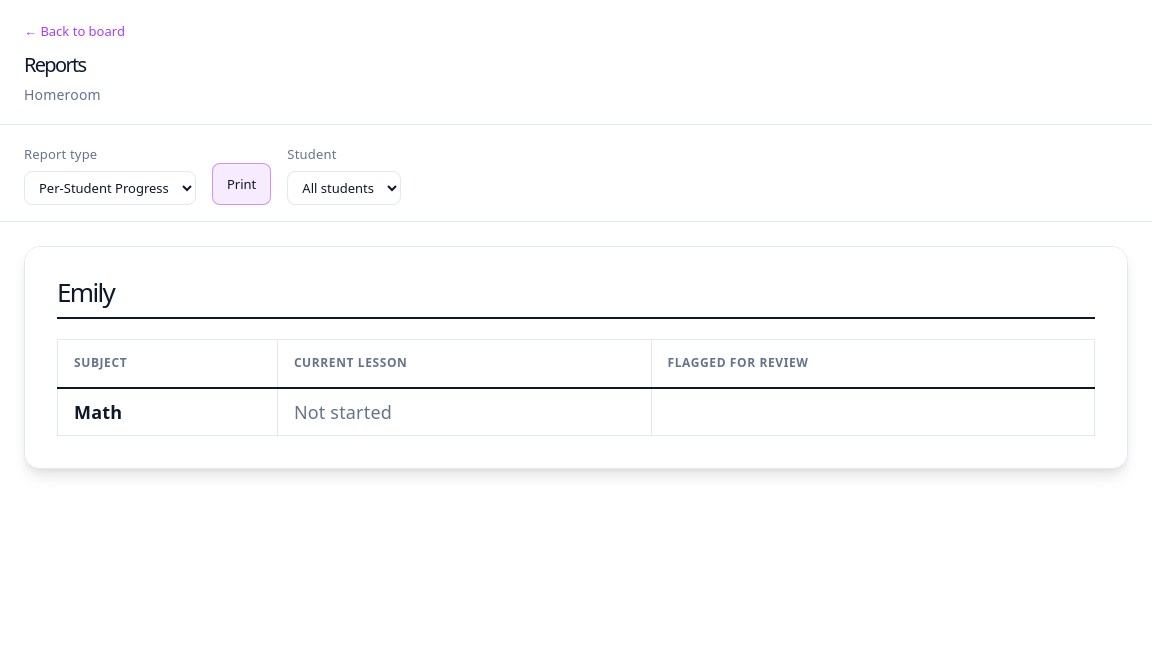
Reports › adding a skip entry through the panel changes what the weekly lesson plan report renders, per #84
Select "Weekly Lesson Plan" in the dropdown labelled "Report type" at (110, 188), box [24,171,196,205]
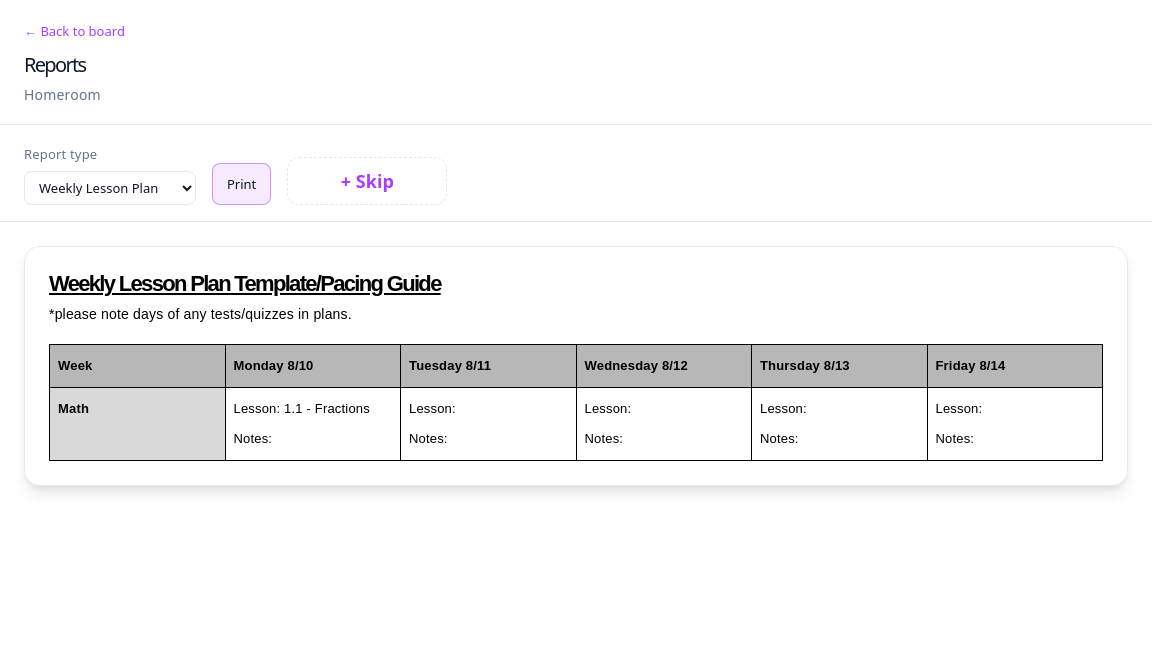
Click the button "+ Skip" at (367, 181), box [287,157,447,205]
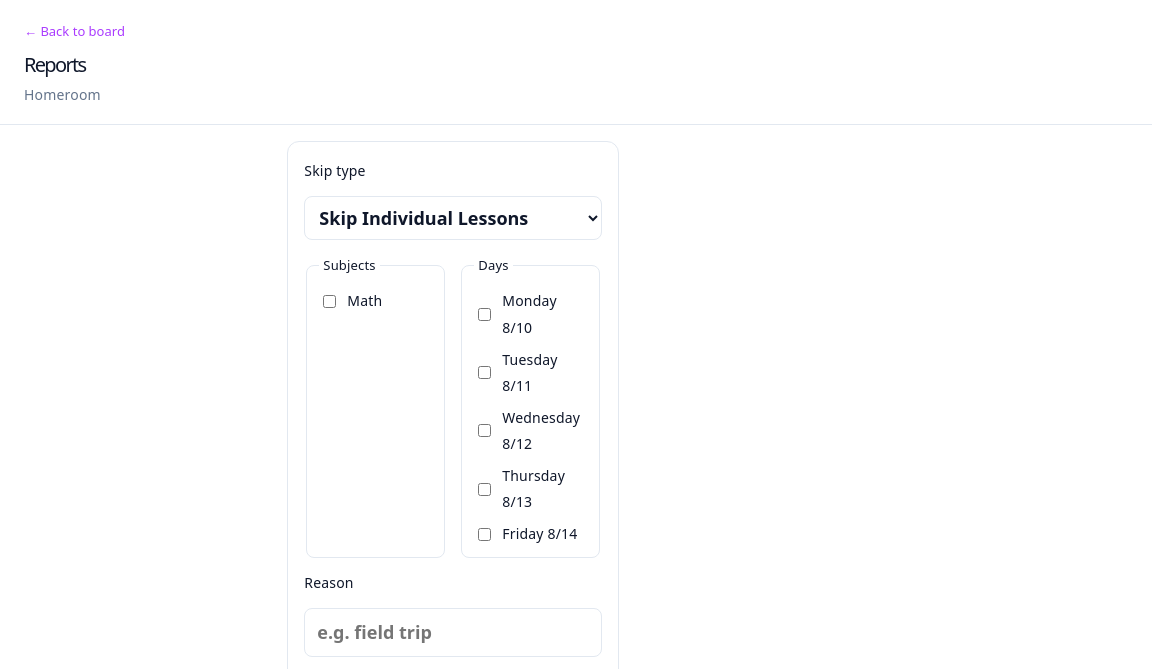
Select "Skip Day(s)" in the dropdown labelled "Skip type" at (453, 218), box [304,196,602,240]
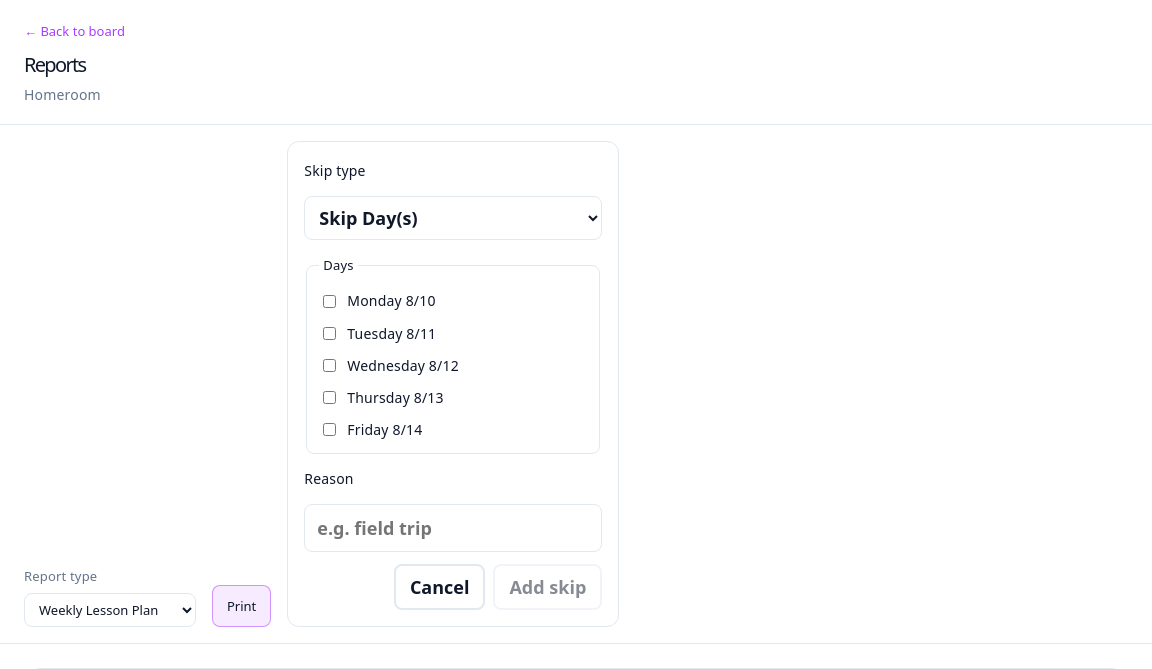
Click the checkbox labelled "Monday 8/10" at (330, 302), box [323,295,336,308]
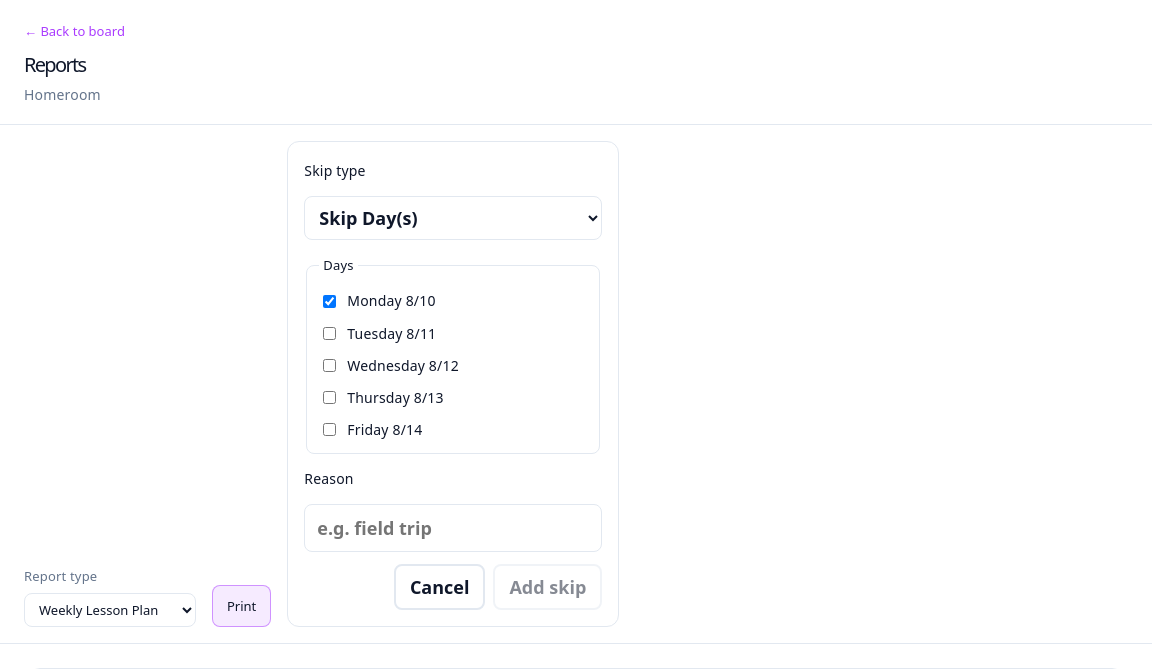
Type "Holiday" into the field labelled "Reason" at (453, 528), box [304,504,602,552]
Click the button "Add skip" at (548, 587), box [493,564,602,610]
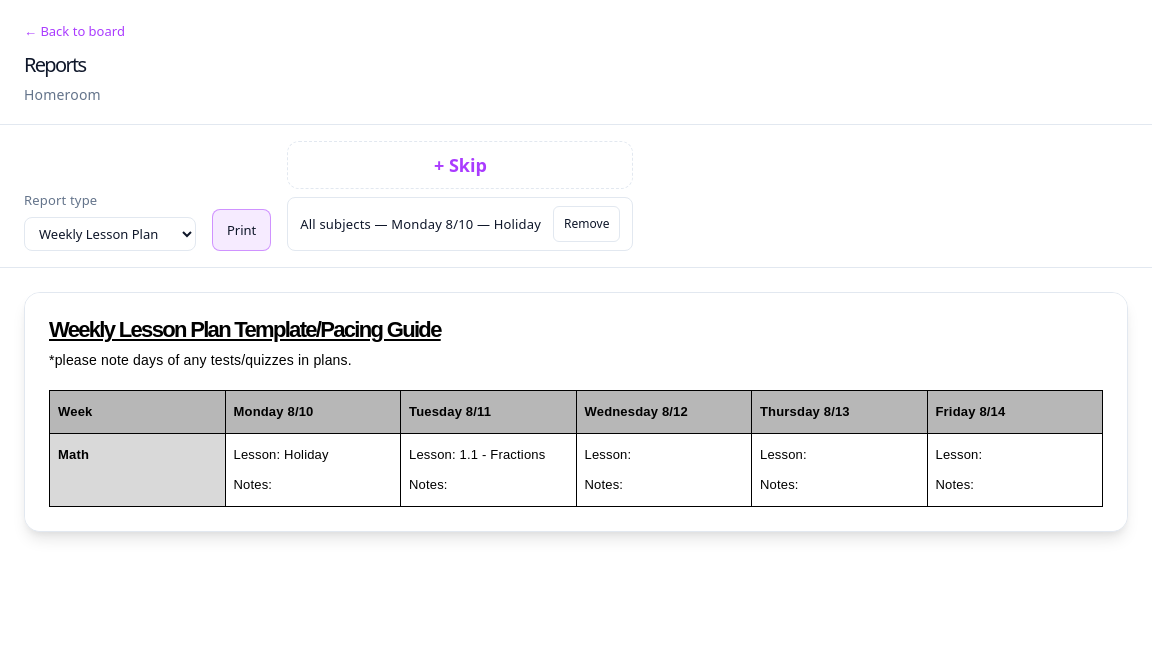
Expected: the text "Lesson: Holiday" is shown, [234,447,329,462]
Expected: the button "Remove" is shown
Click the button "Remove" at (587, 224), box [553,206,620,242]
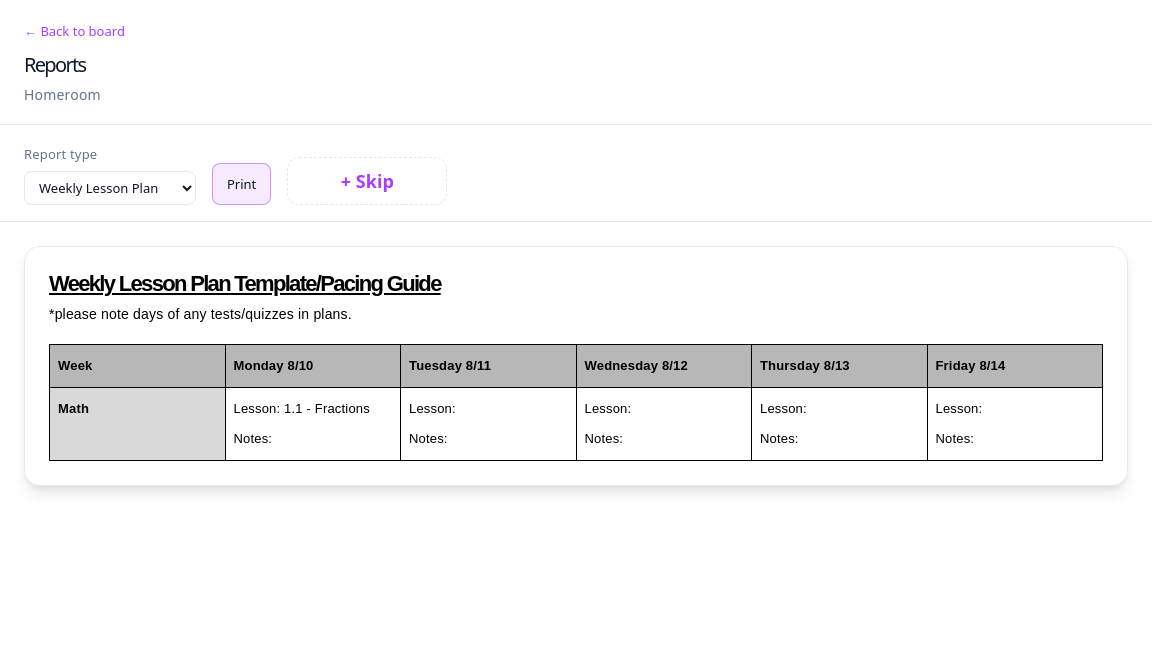
Expected: the text "Lesson: Holiday" is gone
